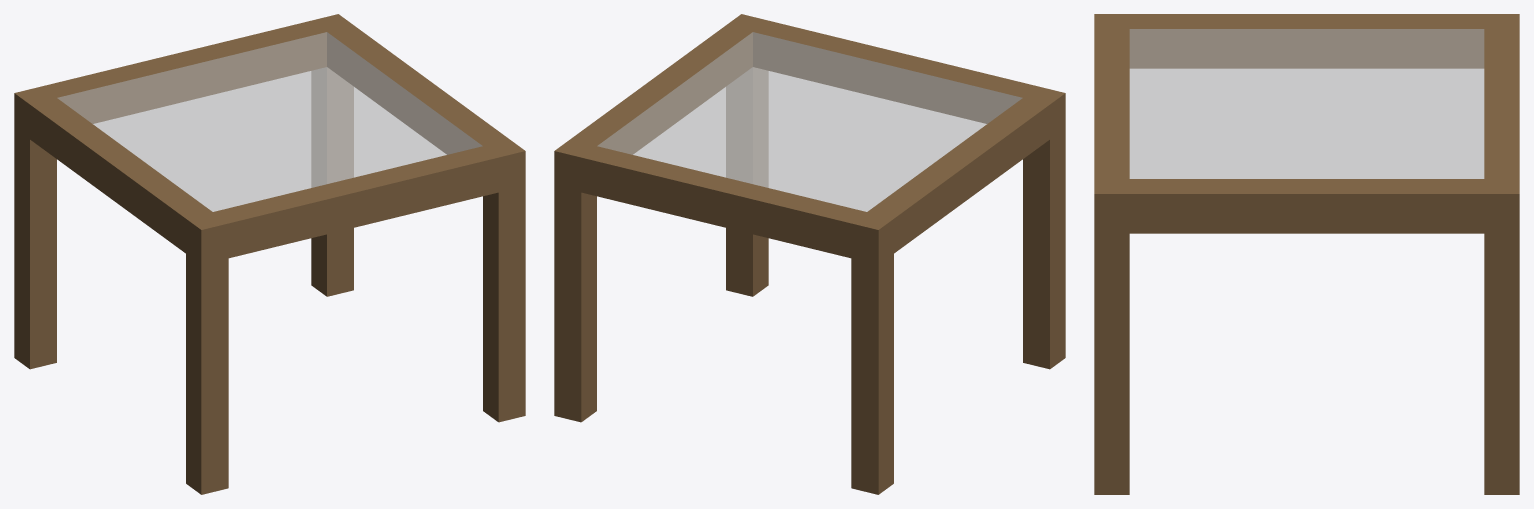
The model's file is centerTable.fbx.
The picture shows the model from 3 angles, left to right: view 1: azimuth 30°, elevation 25°; view 2: azimuth 150°, elevation 25°; view 3: azimuth 270°, elevation 25°; orthographic projection. The views are drawn at different scales.
Visible parts, largest first — view 1: table1; view 2: table1; view 3: table1.
Part boxes in pixels (x1,y1,x2,y2): table1: (14,14,525,494); table1: (554,14,1065,494); table1: (1094,14,1519,494).
Bounding box in the file's own units: 180 × 141 × 180.
